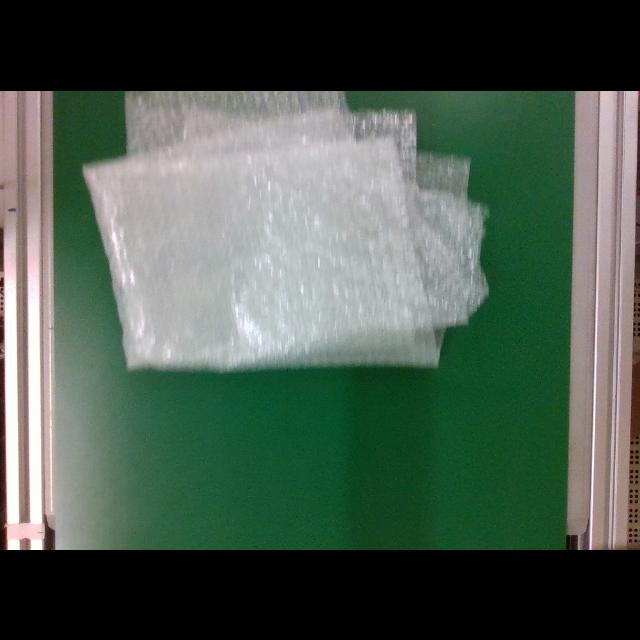scrap_plastic: (82, 92, 492, 374)
